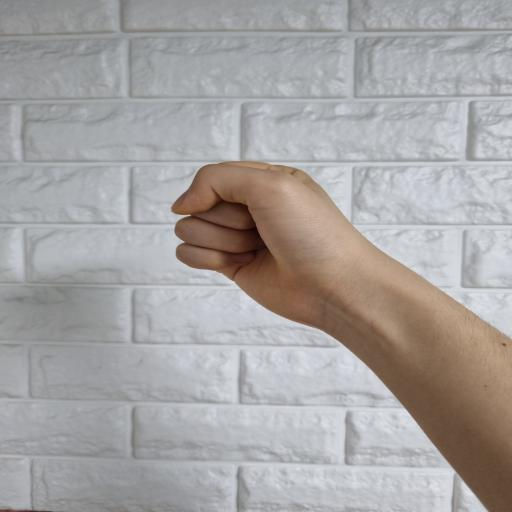Rock: (170, 162, 378, 342)
